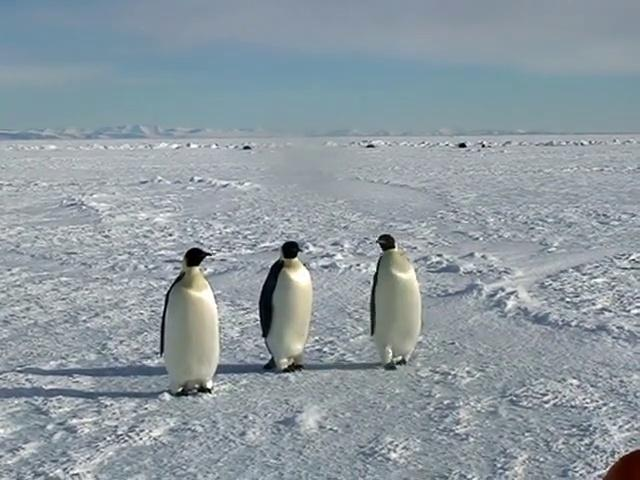animal: (371, 235, 422, 370)
